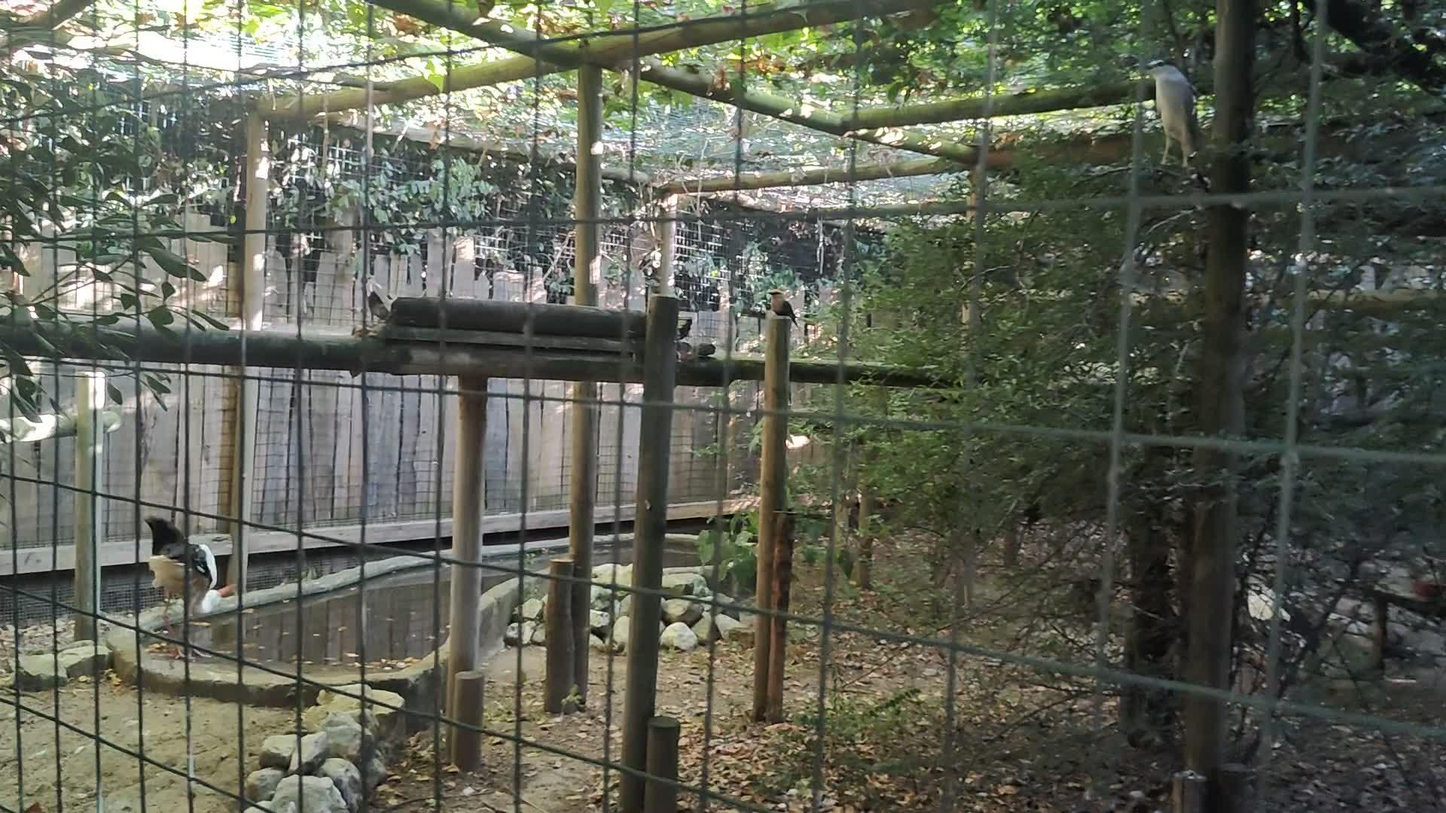apple: (144, 514, 218, 663), (1145, 59, 1199, 168), (767, 289, 798, 327)
